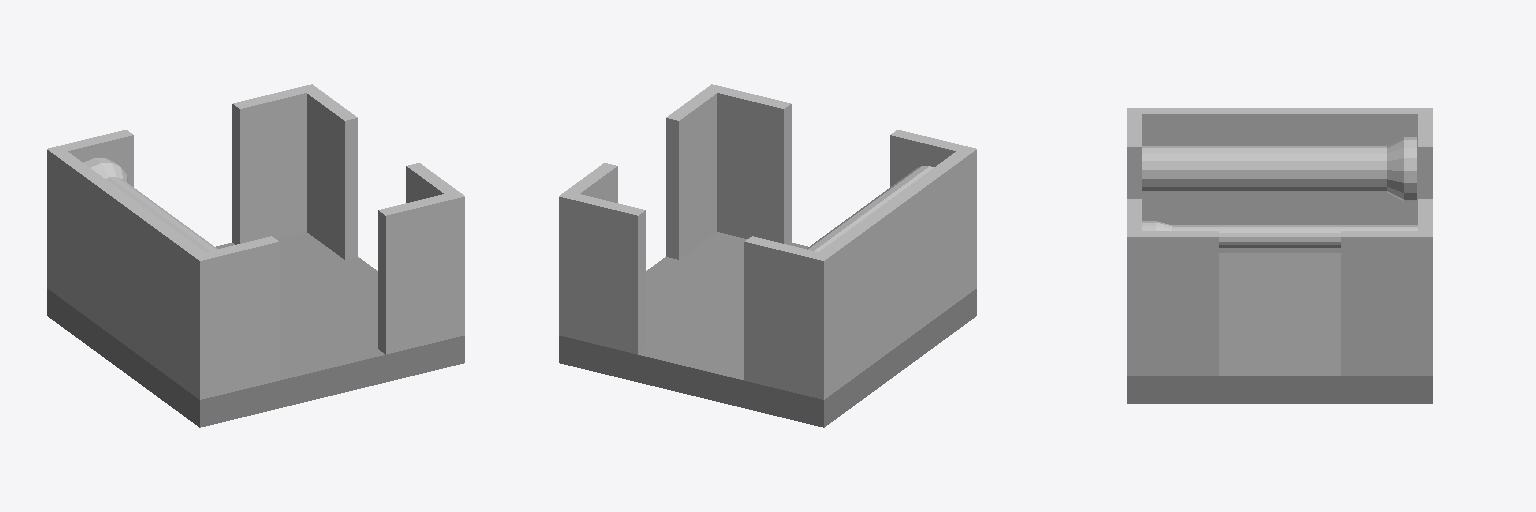
The model's file is big-room_3-exit_2.obj.
3 views of the same model, side by side, from view 1: azimuth 30°, elevation 25°; view 2: azimuth 150°, elevation 25°; view 3: azimuth 270°, elevation 25° (orthographic).
Visible parts, largest first — view 1: Cube.007_Cube.008, Cube, Cylinder_Cylinder.001; view 2: Cube.007_Cube.008, Cube, Cylinder_Cylinder.001; view 3: Cube.007_Cube.008, Cube, Cylinder_Cylinder.001, Cylinder_Cylinder.000.
Boxes of the visible parts, box(x1,y1,x2,y2) form: Cube.007_Cube.008: box(47, 84, 464, 399); Cube: box(47, 232, 464, 427); Cylinder_Cylinder.001: box(84, 158, 216, 251); Cube.007_Cube.008: box(559, 84, 976, 399); Cube: box(559, 232, 976, 427); Cylinder_Cylinder.001: box(807, 166, 933, 251); Cube.007_Cube.008: box(1127, 108, 1432, 375); Cube: box(1127, 253, 1432, 403); Cylinder_Cylinder.001: box(1142, 137, 1416, 201); Cylinder_Cylinder.000: box(1142, 221, 1417, 247).
Size of the model in its own units: 10 by 6 by 10.